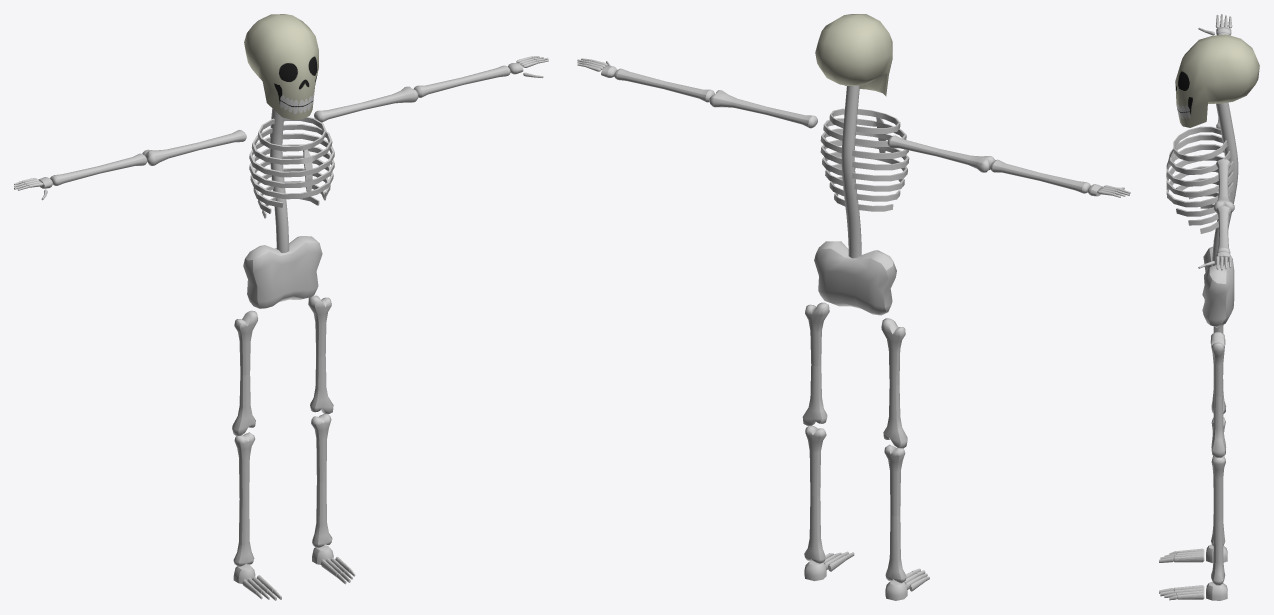
File: skeletonMonster.FBX
3 views of the same model, side by side, from view 1: azimuth 30°, elevation 25°; view 2: azimuth 150°, elevation 25°; view 3: azimuth 270°, elevation 25° (orthographic). The views are drawn at different scales.
Parts seen in each view (by area): view 1: spine, skull, pelvis, left_upper_leg, left_lower_leg, right_lower_leg, right_upper_leg, right_uper_arm, left_upper_arm, left_lower_arm, right_lower_arm; view 2: spine, skull, pelvis, left_upper_leg, right_upper_leg, right_lower_leg, left_lower_leg, right_uper_arm, left_upper_arm, left_lower_arm, right_lower_arm; view 3: skull, spine, pelvis, right_lower_leg, right_upper_leg, right_uper_arm, right_lower_arm, right_ankle, left_toe1, left_ankle, right_toe4, left_upper_leg.
Boxes of the visible parts, x1=… form: spine: x1=249, y1=108, x2=334, y2=252; skull: x1=244, y1=14, x2=318, y2=119; pelvis: x1=243, y1=236, x2=322, y2=308; left_upper_leg: x1=232, y1=310, x2=257, y2=435; left_lower_leg: x1=233, y1=432, x2=254, y2=566; right_lower_leg: x1=311, y1=414, x2=332, y2=548; right_upper_leg: x1=308, y1=295, x2=333, y2=414; right_uper_arm: x1=314, y1=86, x2=418, y2=122; left_upper_arm: x1=142, y1=130, x2=246, y2=165; left_lower_arm: x1=50, y1=153, x2=147, y2=185; right_lower_arm: x1=414, y1=65, x2=510, y2=97; spine: x1=820, y1=85, x2=909, y2=258; skull: x1=815, y1=14, x2=892, y2=96; pelvis: x1=814, y1=241, x2=896, y2=315; left_upper_leg: x1=881, y1=318, x2=907, y2=448; right_upper_leg: x1=802, y1=302, x2=829, y2=425; right_lower_leg: x1=804, y1=425, x2=826, y2=563; left_lower_leg: x1=884, y1=444, x2=906, y2=583; right_uper_arm: x1=709, y1=90, x2=817, y2=128; left_upper_arm: x1=887, y1=135, x2=994, y2=172; left_lower_arm: x1=990, y1=159, x2=1090, y2=193; right_lower_arm: x1=614, y1=68, x2=714, y2=102; skull: x1=1175, y1=34, x2=1259, y2=127; spine: x1=1166, y1=102, x2=1238, y2=265; pelvis: x1=1202, y1=246, x2=1234, y2=327; right_lower_leg: x1=1211, y1=456, x2=1225, y2=585; right_upper_leg: x1=1210, y1=332, x2=1226, y2=457; right_uper_arm: x1=1213, y1=159, x2=1234, y2=212; right_lower_arm: x1=1216, y1=205, x2=1230, y2=253; right_ankle: x1=1206, y1=581, x2=1227, y2=600; left_toe1: x1=1159, y1=554, x2=1204, y2=562; left_ankle: x1=1206, y1=544, x2=1227, y2=563; right_toe4: x1=1169, y1=593, x2=1204, y2=600; left_upper_leg: x1=1211, y1=325, x2=1226, y2=414.
Size of the model in its own units: 164 by 162 by 27.4.
